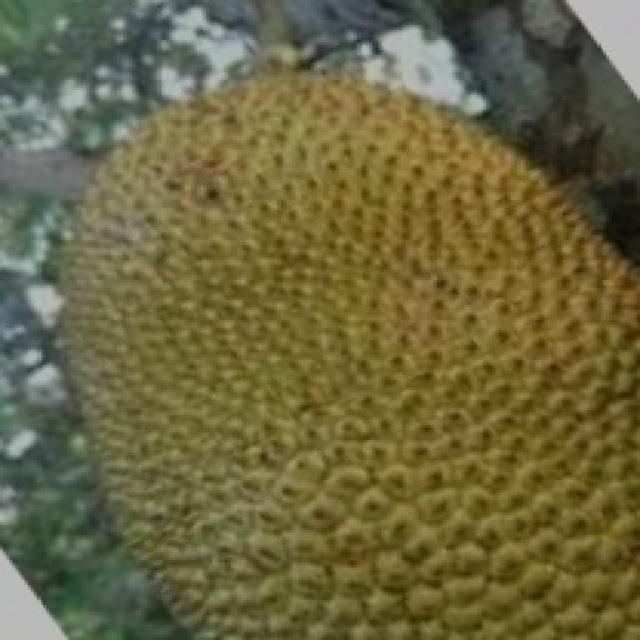Fruit: (258, 8, 640, 372), (3, 297, 369, 640)
